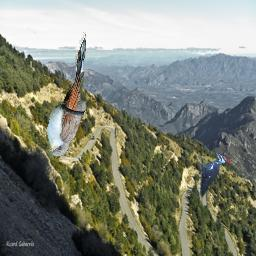Cuckoo: (48, 32, 87, 156)
Woodpecker: (198, 148, 230, 198)
